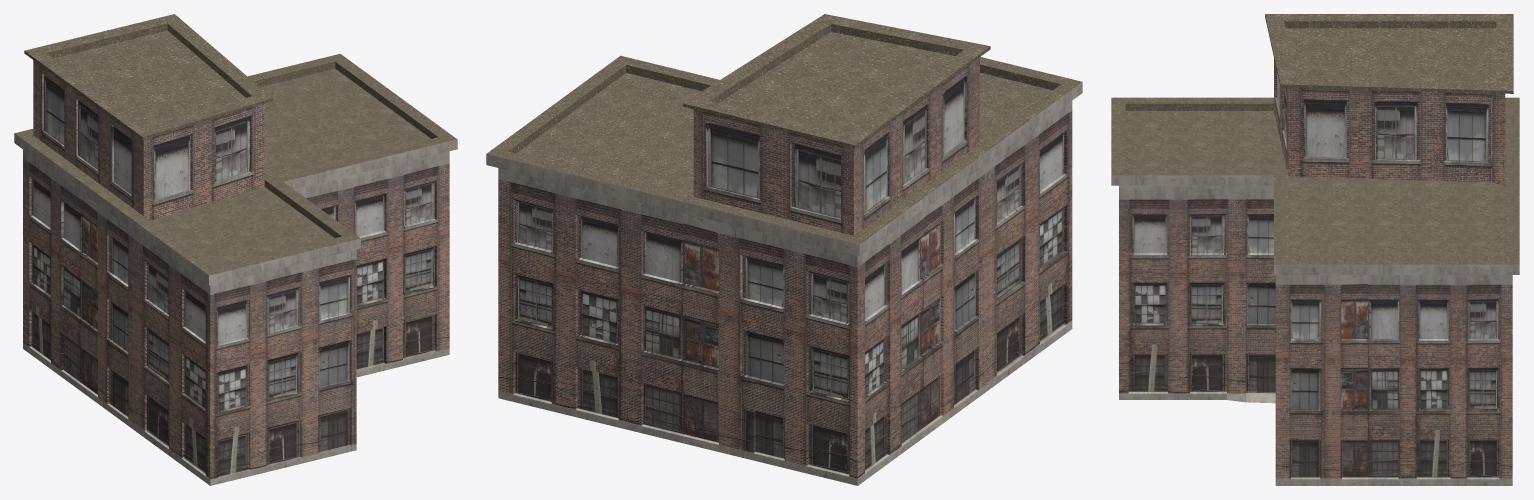
File: build1.glb
3 views of the same model, side by side, from view 1: azimuth 30°, elevation 25°; view 2: azimuth 150°, elevation 25°; view 3: azimuth 270°, elevation 25° (orthographic). The views are drawn at different scales.
Visible parts, largest first — view 1: Object_4, Object_5; view 2: Object_4, Object_5; view 3: Object_4, Object_5.
Boxes of the visible parts, x1=… form: Object_4: x1=14, y1=60, x2=457, y2=485; Object_5: x1=14, y1=14, x2=457, y2=275; Object_4: x1=486, y1=57, x2=1082, y2=485; Object_5: x1=487, y1=14, x2=1081, y2=244; Object_4: x1=1111, y1=58, x2=1519, y2=485; Object_5: x1=1111, y1=14, x2=1519, y2=264.
Bounding box in the file's own units: 3.34 × 2.91 × 3.45.
Materials: 2 (2 with a texture image).
